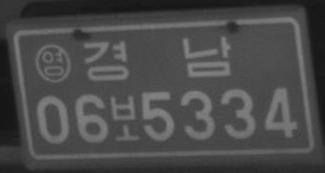0: (35, 94, 70, 146)
3: (220, 87, 257, 141), (179, 89, 217, 140)
4: (263, 87, 299, 138)
5: (140, 90, 174, 142)
6: (73, 92, 109, 144)
경남_D: (83, 33, 231, 82)
보: (109, 93, 139, 141)
영: (33, 43, 73, 84)
